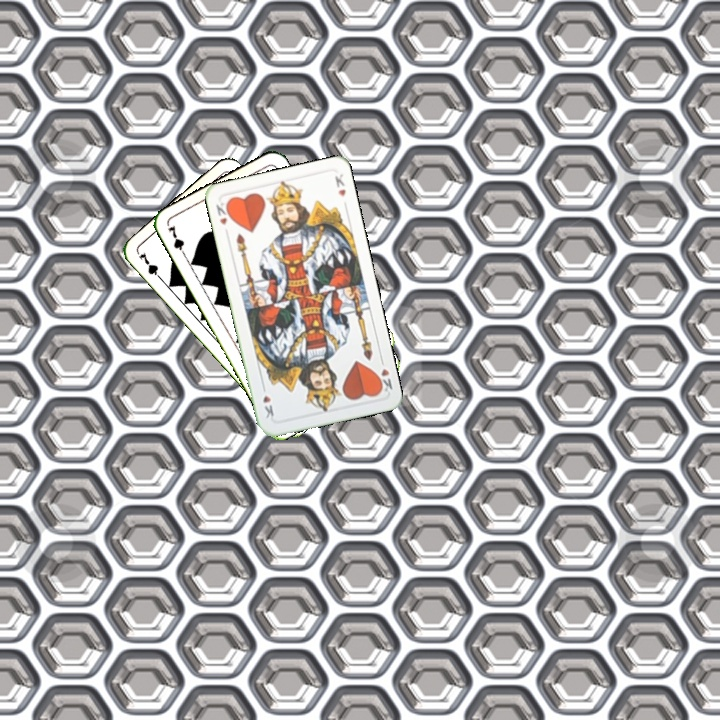G7: (135, 248, 166, 284), (164, 221, 189, 260)
HK: (372, 364, 395, 395), (212, 198, 234, 228)
